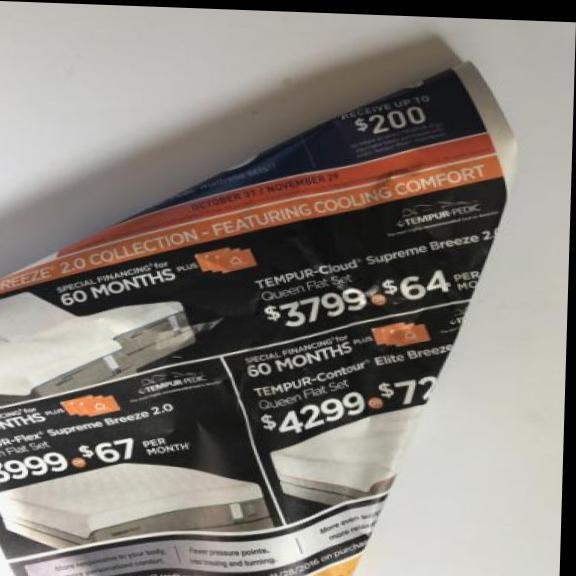Kertas: (0, 46, 512, 576)
